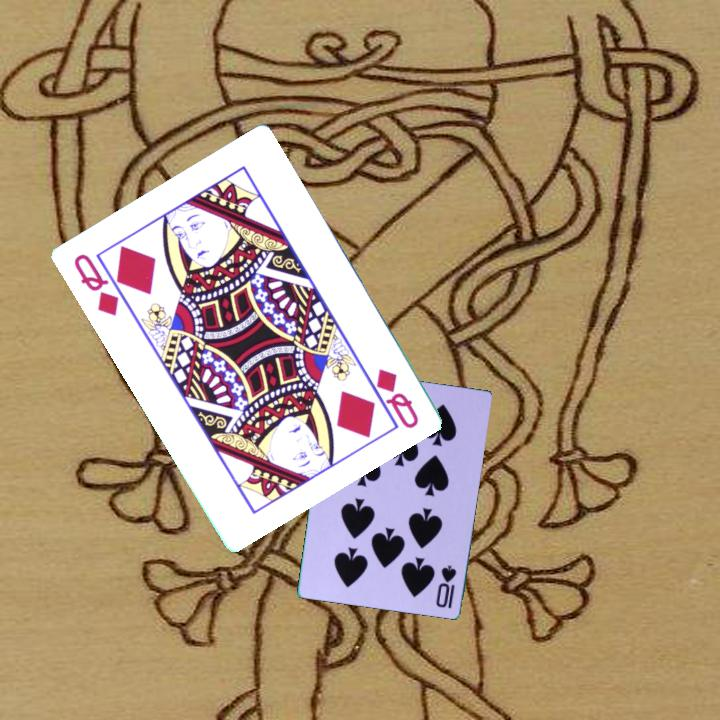10s: (432, 561, 459, 611)
Qd: (69, 249, 131, 319), (371, 365, 421, 432)
